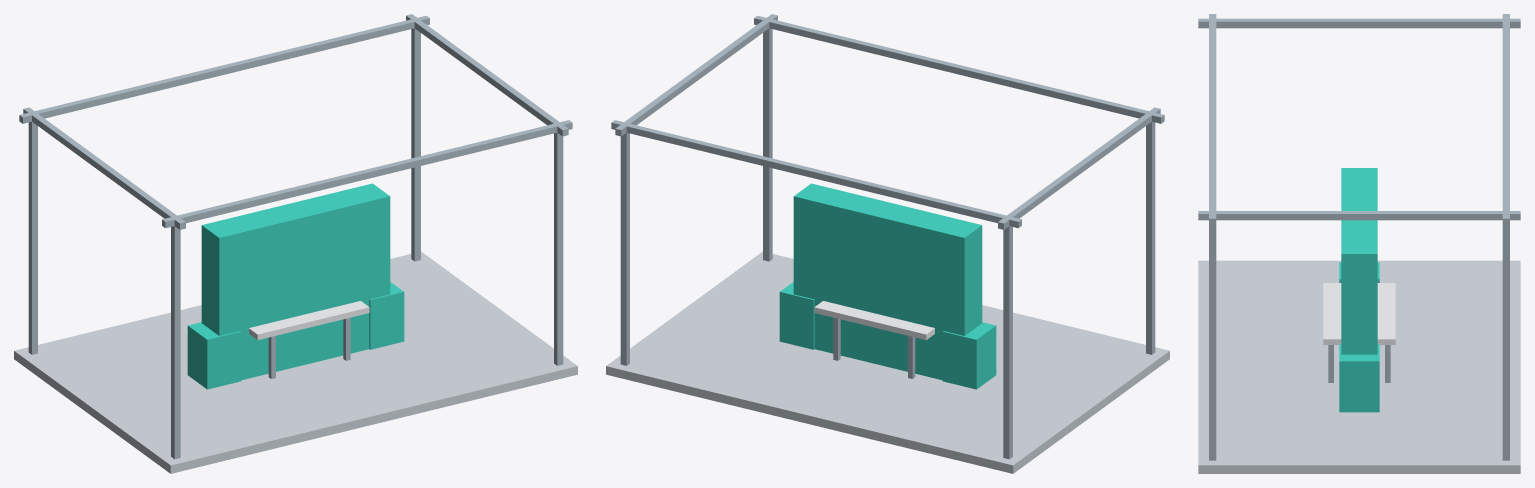
The picture shows the model from 3 angles, left to right: view 1: azimuth 30°, elevation 25°; view 2: azimuth 150°, elevation 25°; view 3: azimuth 270°, elevation 25°; orthographic projection. The views are drawn at different scales.
Parts seen in each view (by area): view 1: Exhibition Booth Concept; view 2: Exhibition Booth Concept; view 3: Exhibition Booth Concept.
Part boxes in pixels (bbox=[...]): Exhibition Booth Concept: bbox=[14, 14, 577, 473]; Exhibition Booth Concept: bbox=[606, 14, 1169, 473]; Exhibition Booth Concept: bbox=[1198, 14, 1520, 473].
Bounding box in the file's own units: 6 × 3.49 × 4.
